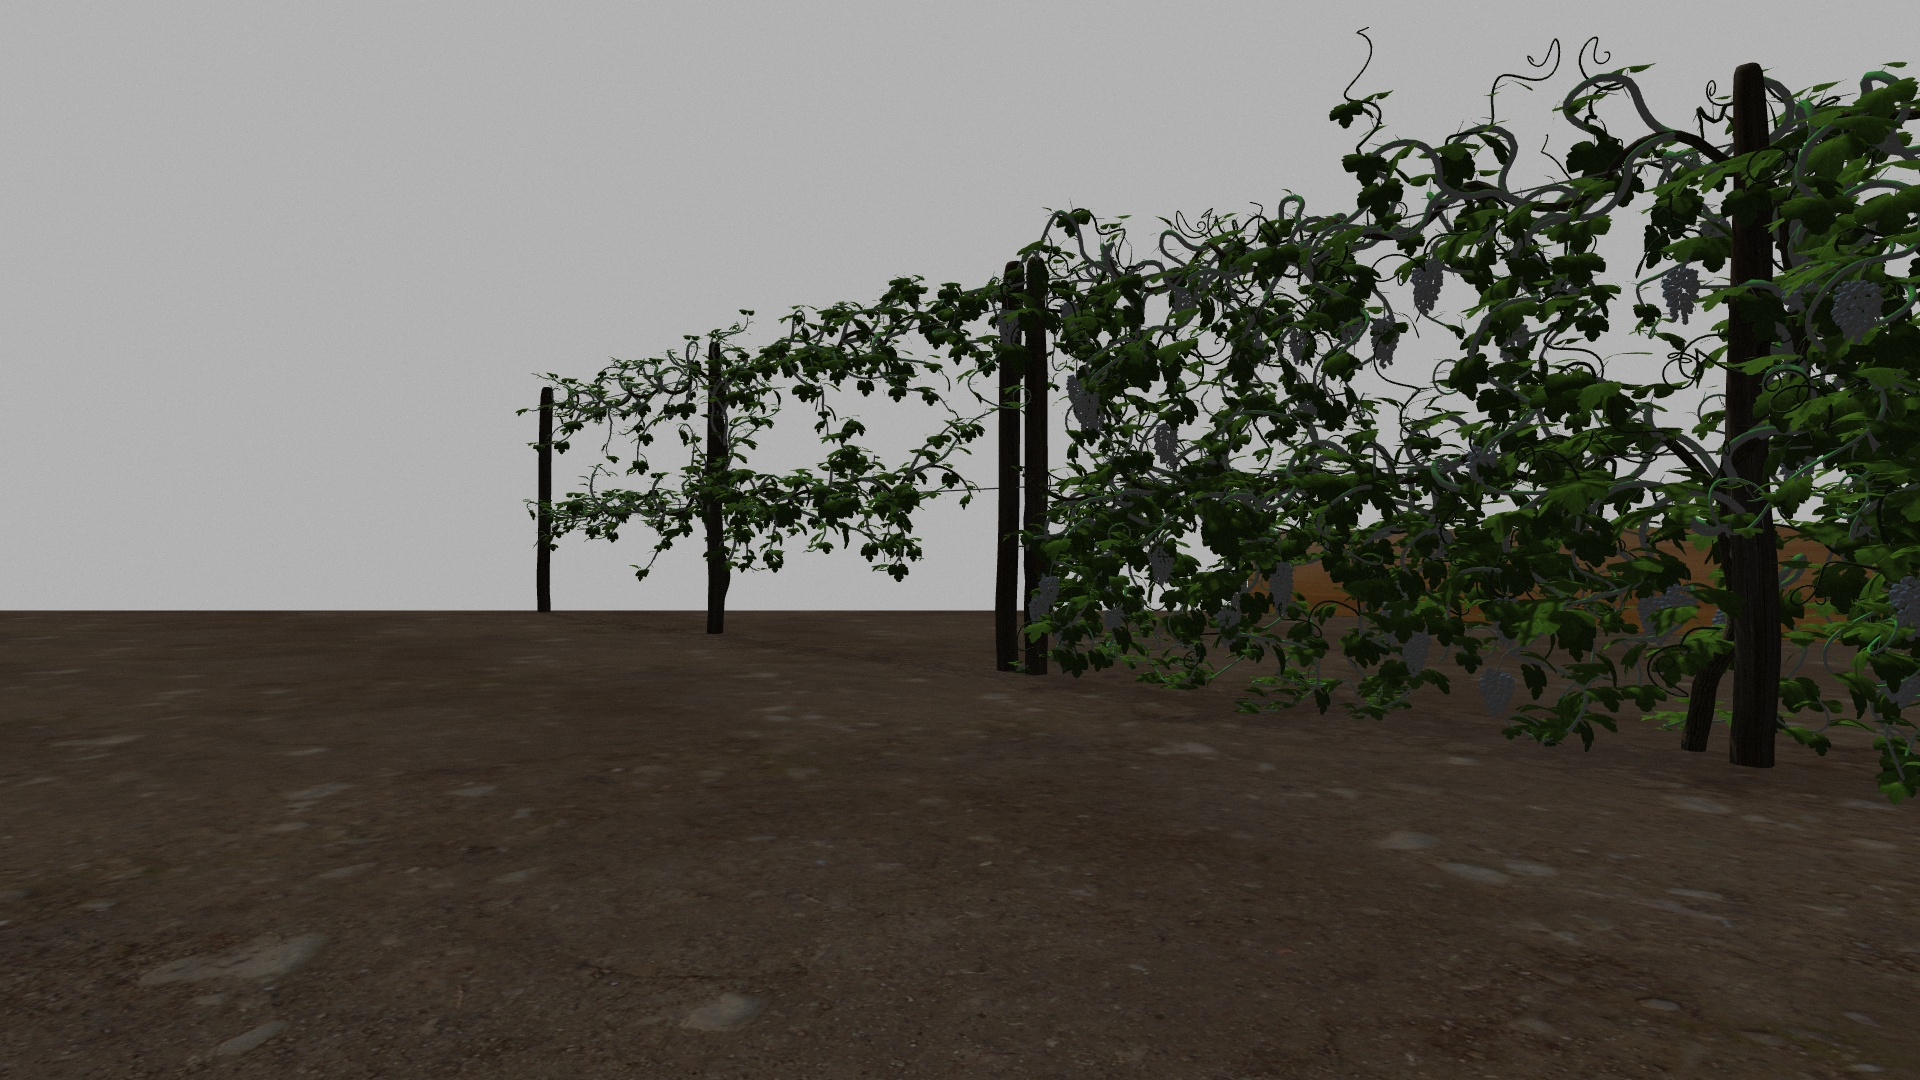grape: (1833, 276, 1880, 343), (1662, 266, 1701, 324), (1477, 666, 1516, 719), (1411, 258, 1445, 316), (1065, 375, 1101, 430), (1367, 318, 1399, 367), (1887, 574, 1916, 626), (1400, 626, 1431, 676), (1271, 560, 1295, 615), (1883, 676, 1916, 713), (1465, 448, 1498, 483), (1153, 423, 1179, 463), (1150, 546, 1175, 585), (1662, 585, 1697, 612), (996, 309, 1021, 345), (1288, 328, 1311, 367), (1636, 596, 1660, 632), (1029, 593, 1050, 628), (1100, 608, 1125, 636), (1039, 575, 1060, 607), (1215, 607, 1242, 629)
